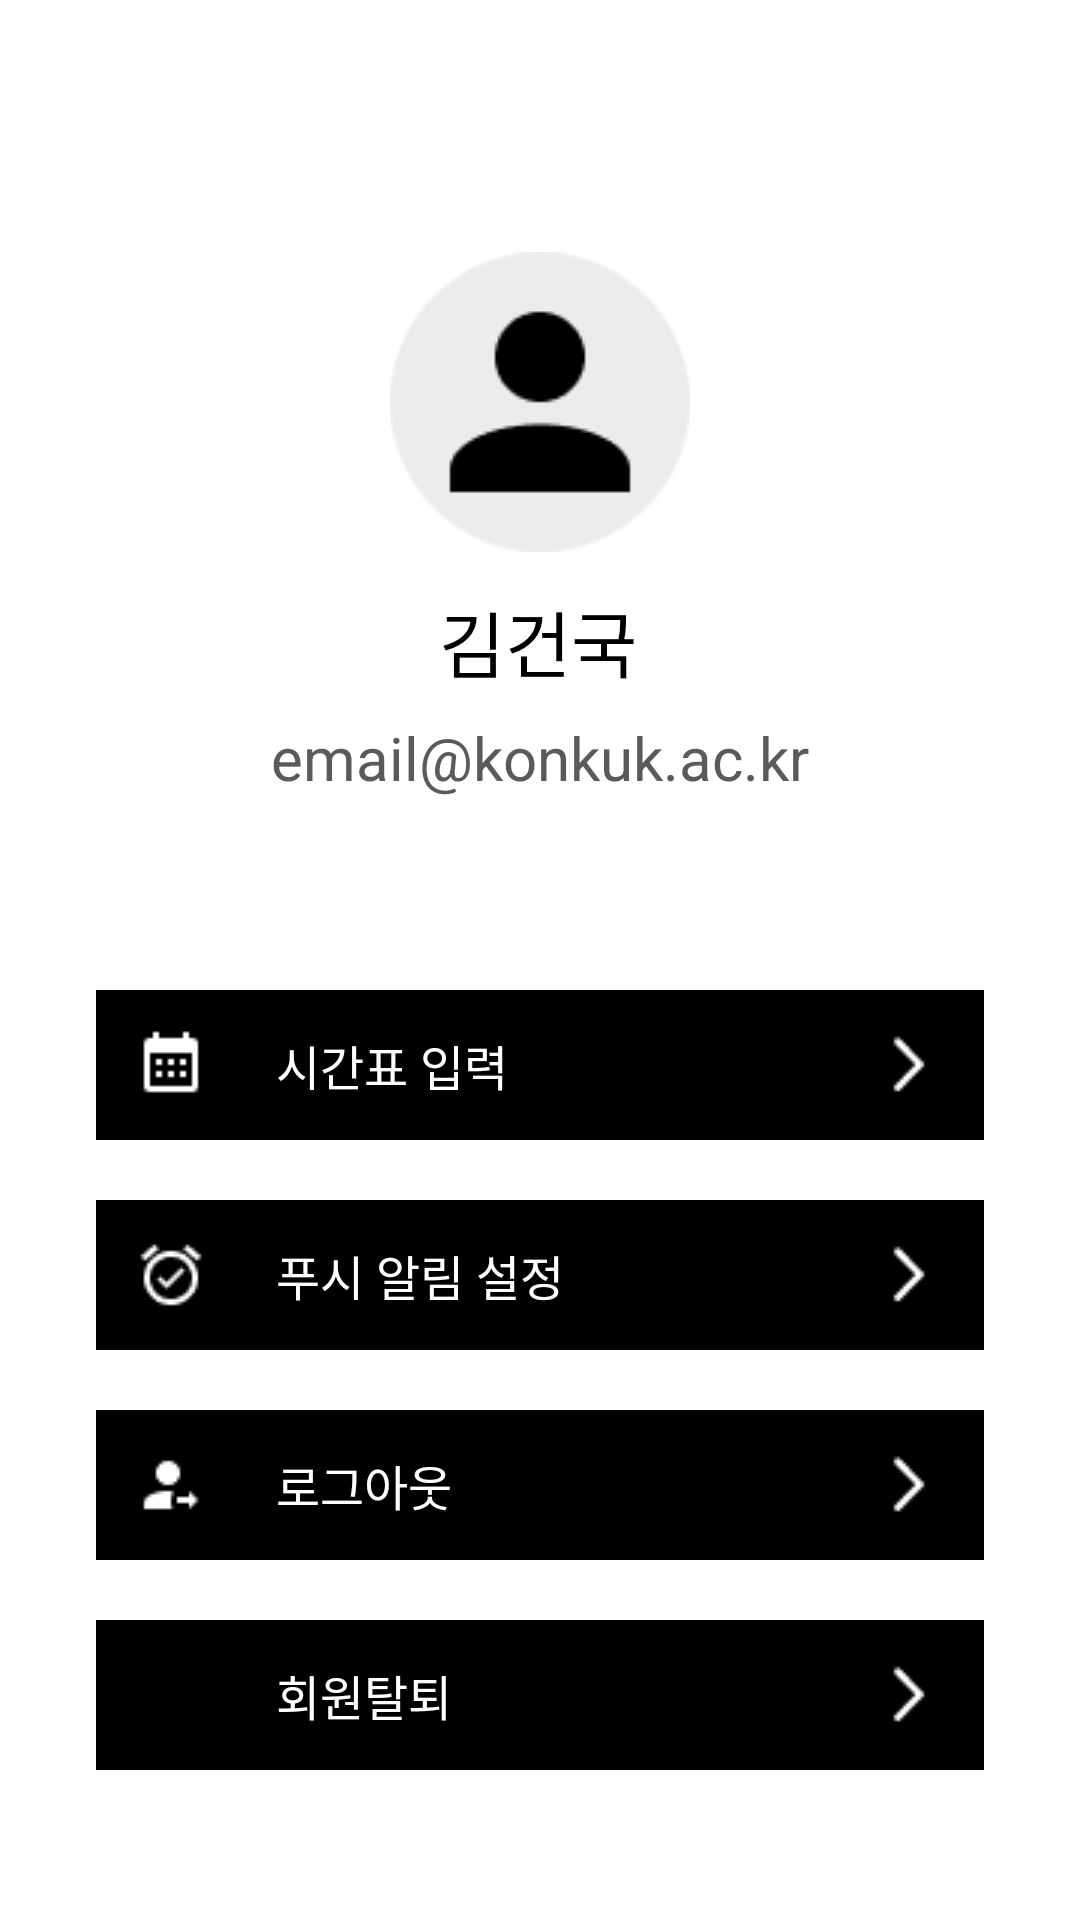

Point at icon controls on the screen. Image size 1080px×1920px, points as [x,y].
alarm: [171,1275]
arrow: [909,1064], [909,1274], [909,1484], [909,1694]
profile: [540,402]
timetable: [171,1062]
